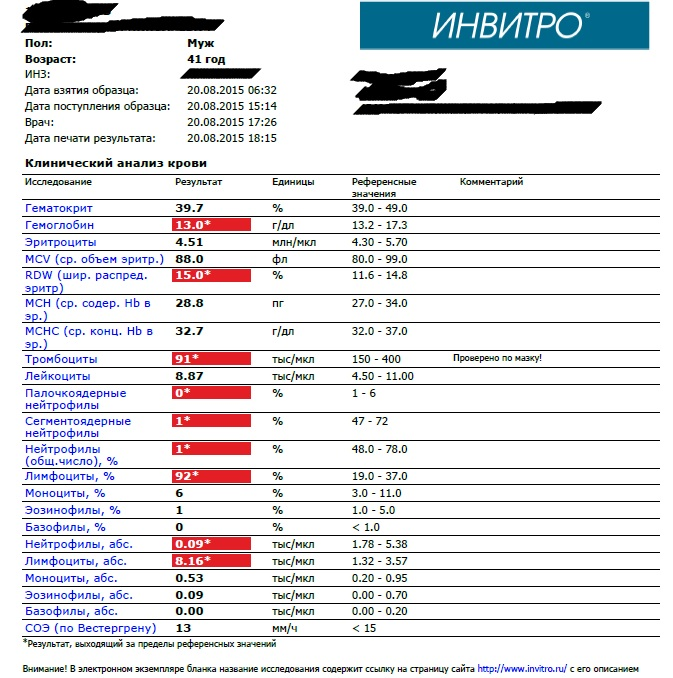column: (24, 174, 164, 636), (452, 174, 542, 636), (351, 174, 416, 636), (174, 174, 223, 636), (271, 174, 317, 636)
